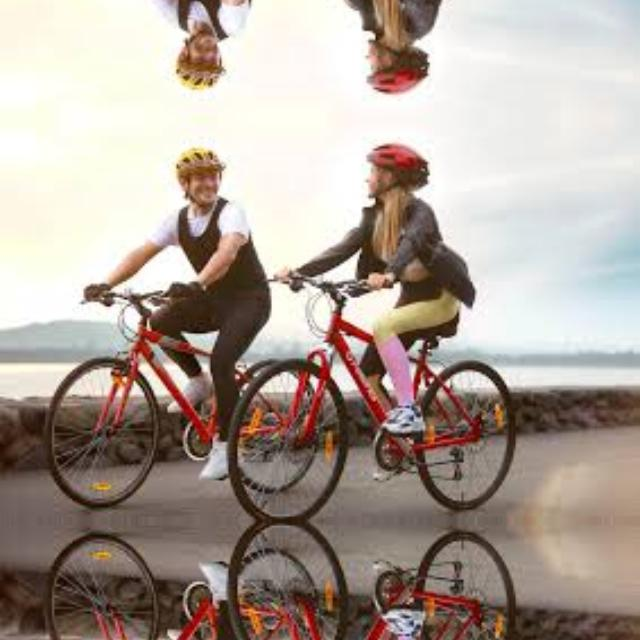obstacle: (241, 267, 524, 521), (34, 277, 274, 503), (240, 520, 523, 640), (34, 538, 274, 640)
